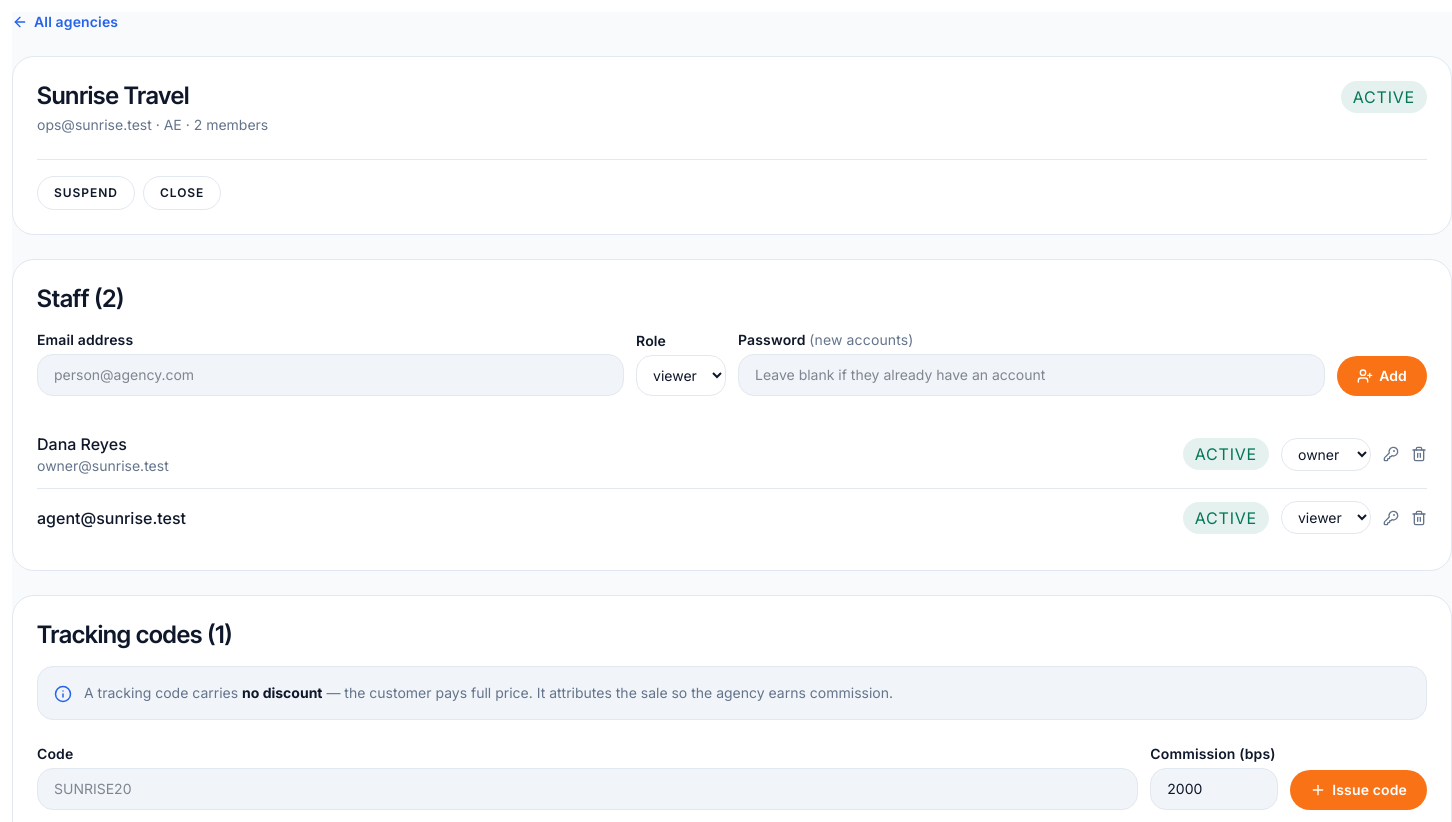
Test: staff › surfaces the last-owner refusal
The width and height of the screenshot is (1452, 822).
Expected: the 1st heading "Sunrise Travel" is shown, [37, 81, 189, 110]
Click the button named "remove owner@sunrise.test": click(1419, 454) [1411, 446, 1427, 462]
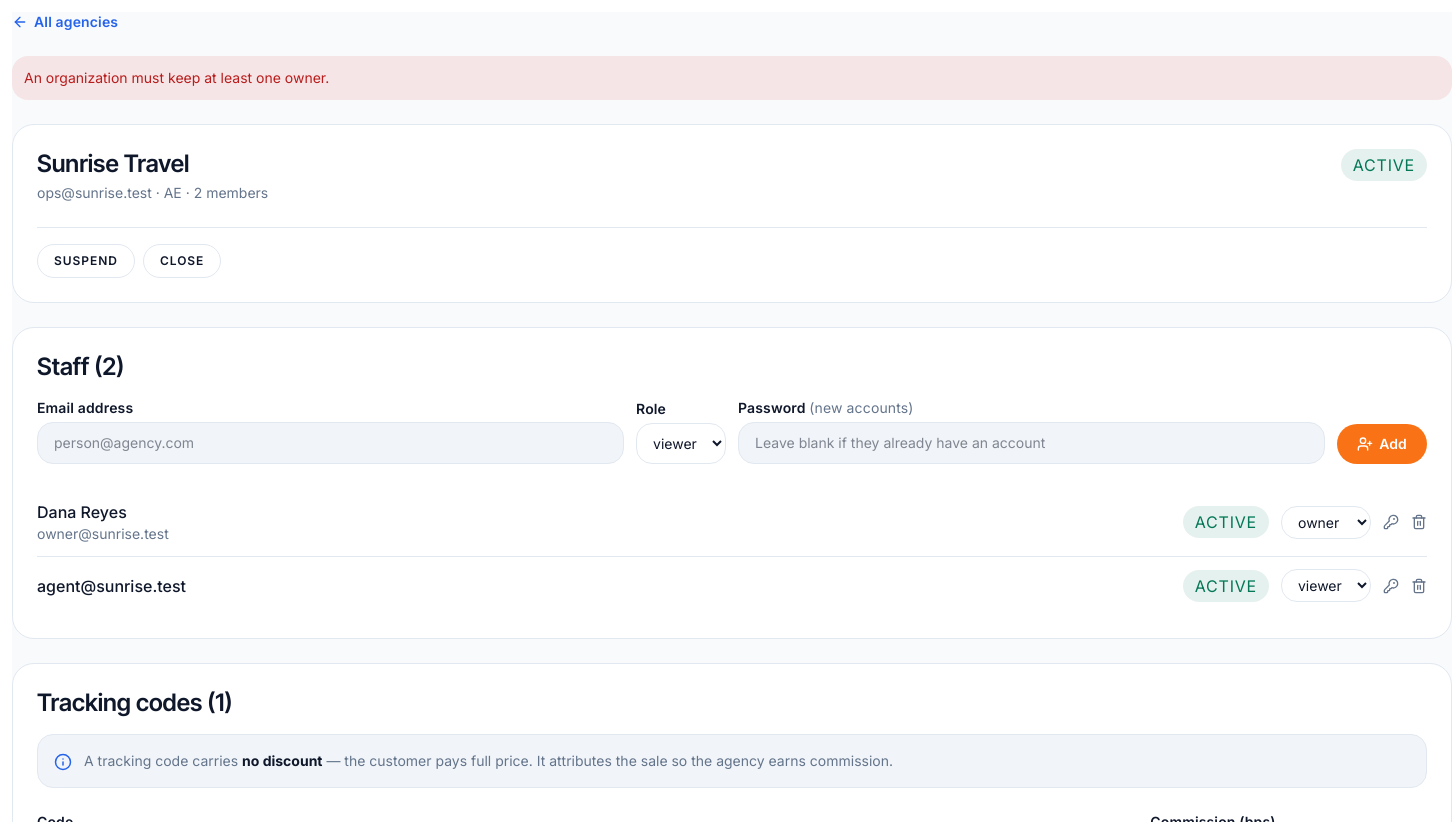
Now the text "An organization must keep at least one owner." is shown, box [24, 69, 329, 86]
